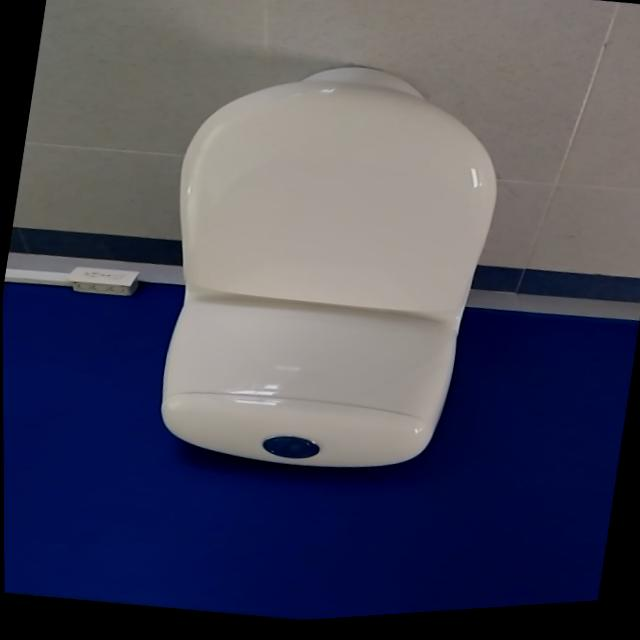toilet: (134, 39, 518, 504)
